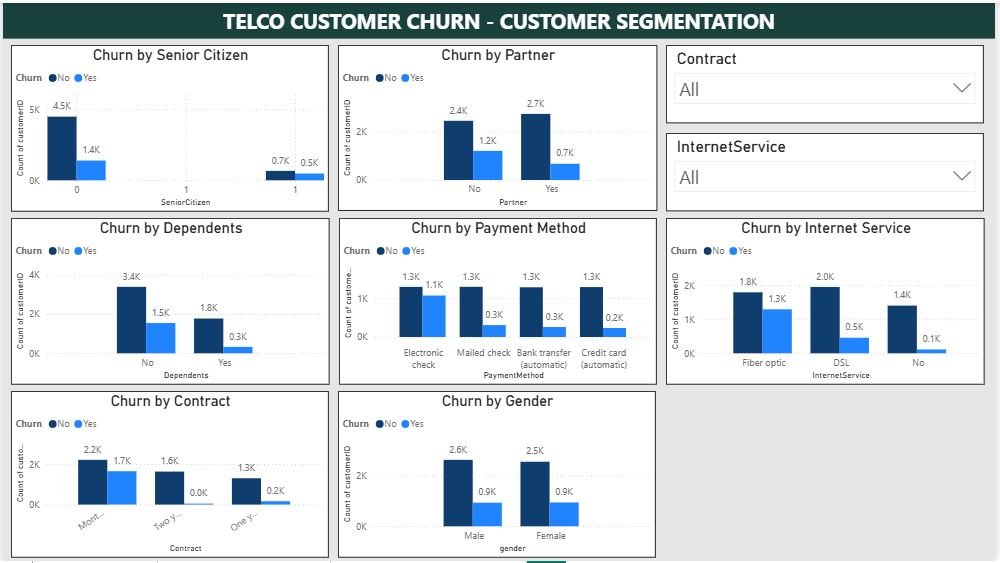

What the dashboard file says about the page in this screenshot:
{"tool":"powerbi","page":{"name":"CUSTOMER SEGMENTATION","canvas":[1280,720],"ordinal":2},"visuals":[{"type":"textbox","box":[0,0,1280,45.6],"z":0},{"type":"clusteredColumnChart","title":"Churn by Senior Citizen","fields":{"Y":["CountNonNull(Telco-Customer-Churn.customerID)"],"Category":["Telco-Customer-Churn.SeniorCitizen"],"Series":["Telco-Customer-Churn.Churn"]},"box":[10.3,54.4,410,214.6],"z":1},{"type":"clusteredColumnChart","title":"Churn by Partner","fields":{"Category":["Telco-Customer-Churn.Partner"],"Series":["Telco-Customer-Churn.Churn"],"Y":["CountNonNull(Telco-Customer-Churn.customerID)"]},"box":[432.3,54.2,411.6,214.2],"z":2},{"type":"clusteredColumnChart","title":"Churn by Dependents","fields":{"Category":["Telco-Customer-Churn.Dependents"],"Y":["CountNonNull(Telco-Customer-Churn.customerID)"],"Series":["Telco-Customer-Churn.Churn"]},"box":[10.3,277.7,411.5,214.6],"z":3},{"type":"clusteredColumnChart","title":"Churn by Payment Method","fields":{"Category":["Telco-Customer-Churn.PaymentMethod"],"Y":["CountNonNull(Telco-Customer-Churn.customerID)"],"Series":["Telco-Customer-Churn.Churn"]},"box":[433.5,277.7,410,214.6],"z":4},{"type":"clusteredColumnChart","title":"Churn by Internet Service","fields":{"Category":["Telco-Customer-Churn.InternetService"],"Y":["CountNonNull(Telco-Customer-Churn.customerID)"],"Series":["Telco-Customer-Churn.Churn"]},"box":[855.3,277.7,411.5,214.6],"z":5},{"type":"clusteredColumnChart","title":"Churn by Contract","fields":{"Category":["Telco-Customer-Churn.Contract"],"Y":["CountNonNull(Telco-Customer-Churn.customerID)"],"Series":["Telco-Customer-Churn.Churn"]},"box":[10.3,501.1,410,214.6],"z":6},{"type":"clusteredColumnChart","title":"Churn by Gender","fields":{"Category":["Telco-Customer-Churn.gender"],"Y":["CountNonNull(Telco-Customer-Churn.customerID)"],"Series":["Telco-Customer-Churn.Churn"]},"box":[432.1,501.1,410,214.6],"z":7},{"type":"slicer","fields":{"Values":["Telco-Customer-Churn.InternetService"]},"box":[855.3,167.5,410,101.4],"z":8},{"type":"slicer","fields":{"Values":["Telco-Customer-Churn.Contract"]},"box":[855.3,54.4,410,101.4],"z":9}]}

Visuals, with their boxes in screenshot pixels (x1, y1, x2, y2), scaled from the page's 1280x720 canvas onto the 1000x563 screenshot:
textbox: Rect(0, 0, 999, 36)
"Churn by Senior Citizen" clusteredColumnChart: Rect(8, 43, 328, 210)
"Churn by Partner" clusteredColumnChart: Rect(338, 42, 659, 210)
"Churn by Dependents" clusteredColumnChart: Rect(8, 217, 330, 385)
"Churn by Payment Method" clusteredColumnChart: Rect(339, 217, 659, 385)
"Churn by Internet Service" clusteredColumnChart: Rect(668, 217, 990, 385)
"Churn by Contract" clusteredColumnChart: Rect(8, 392, 328, 560)
"Churn by Gender" clusteredColumnChart: Rect(338, 392, 658, 560)
slicer - Telco-Customer-Churn.InternetService: Rect(668, 131, 989, 210)
slicer - Telco-Customer-Churn.Contract: Rect(668, 43, 989, 122)
